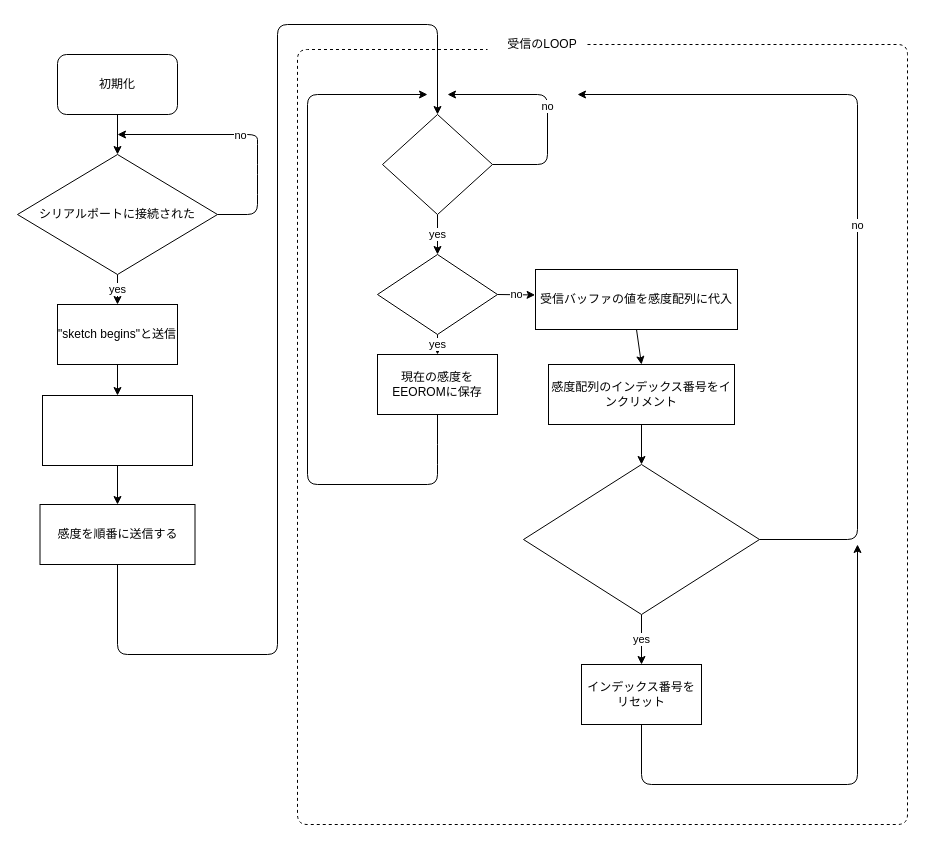
The diagram is 926 pixels wide and 843 high, and some of its shapes have lost their labels. Each missing label, with the centre of its shape:
EEPROM(電源が無くても値を保存するメモリ)の内容を取得する: (x=117, y=430)
その値が240: (x=437, y=294)
インデックス番号が9以上だったら 受信が完了していたら: (x=641, y=539)
受信がある: (x=437, y=164)
